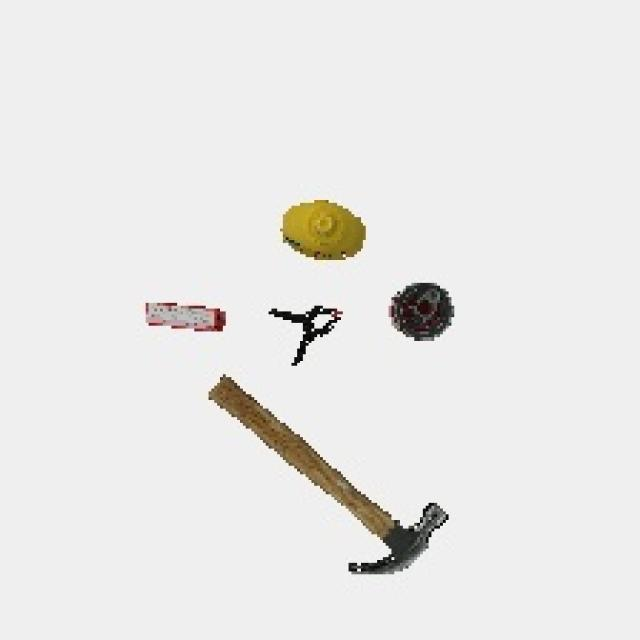GelatinBox: (133, 295, 237, 345)
Hammer: (198, 371, 454, 584)
MediumClamp: (261, 300, 351, 366)
MustardBottle: (274, 196, 374, 270)
TomatoSoupCan: (383, 277, 464, 350)
